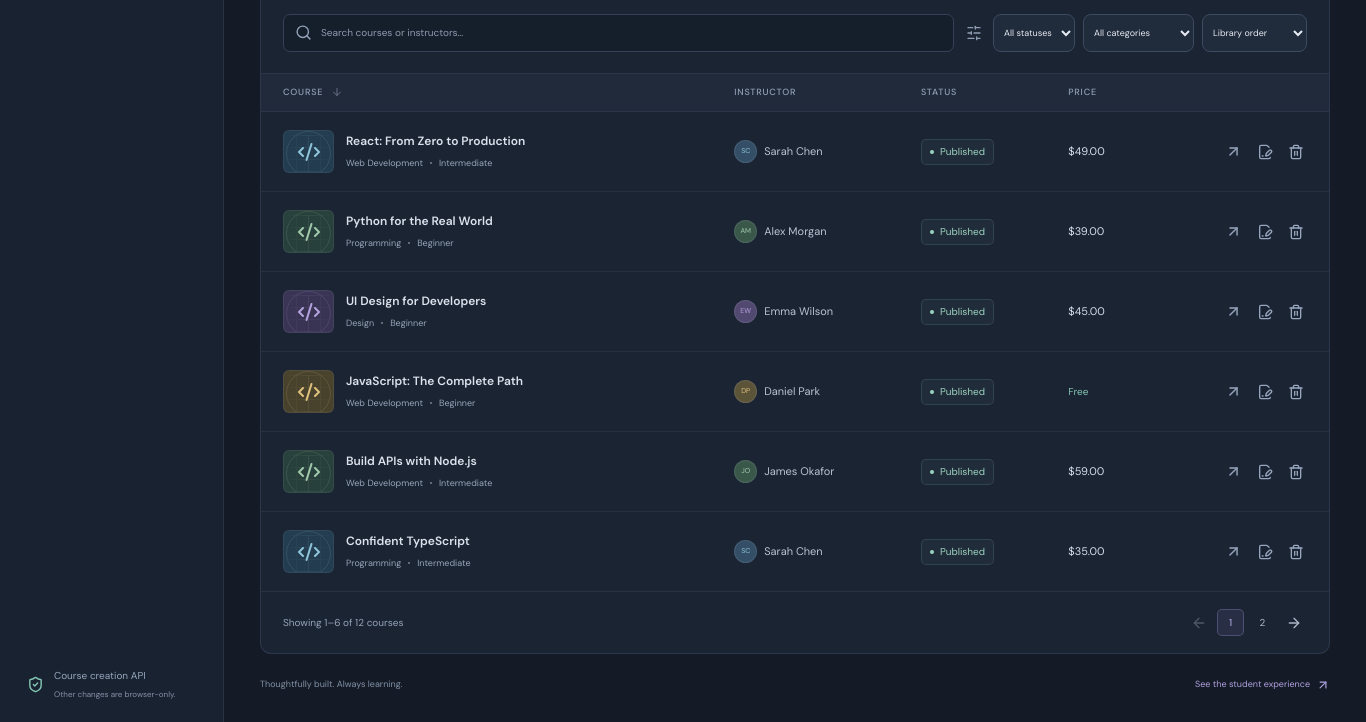
Scenario: admin search, status filters, reset and pagination are functional
(page scrolled)
Click the button named "Next page". click: click(1294, 622)
box: x1=1281 y1=610 x2=1307 y2=636
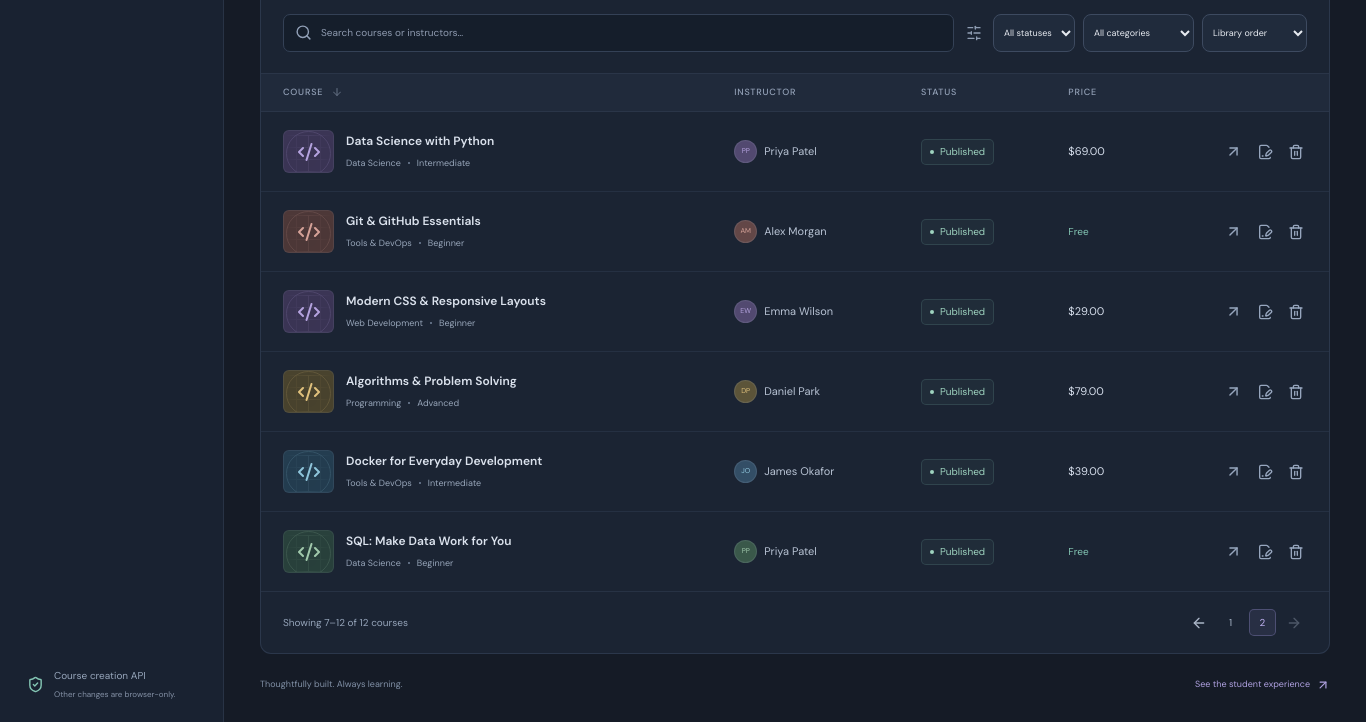
Check: the text "Showing 7–12 of 12 courses" is shown, box x1=283 y1=615 x2=408 y2=630
Type "Python" into the field named "Search admin courses". click: (632, 32)
box: x1=321 y1=25 x2=942 y2=40
(page scrolled)
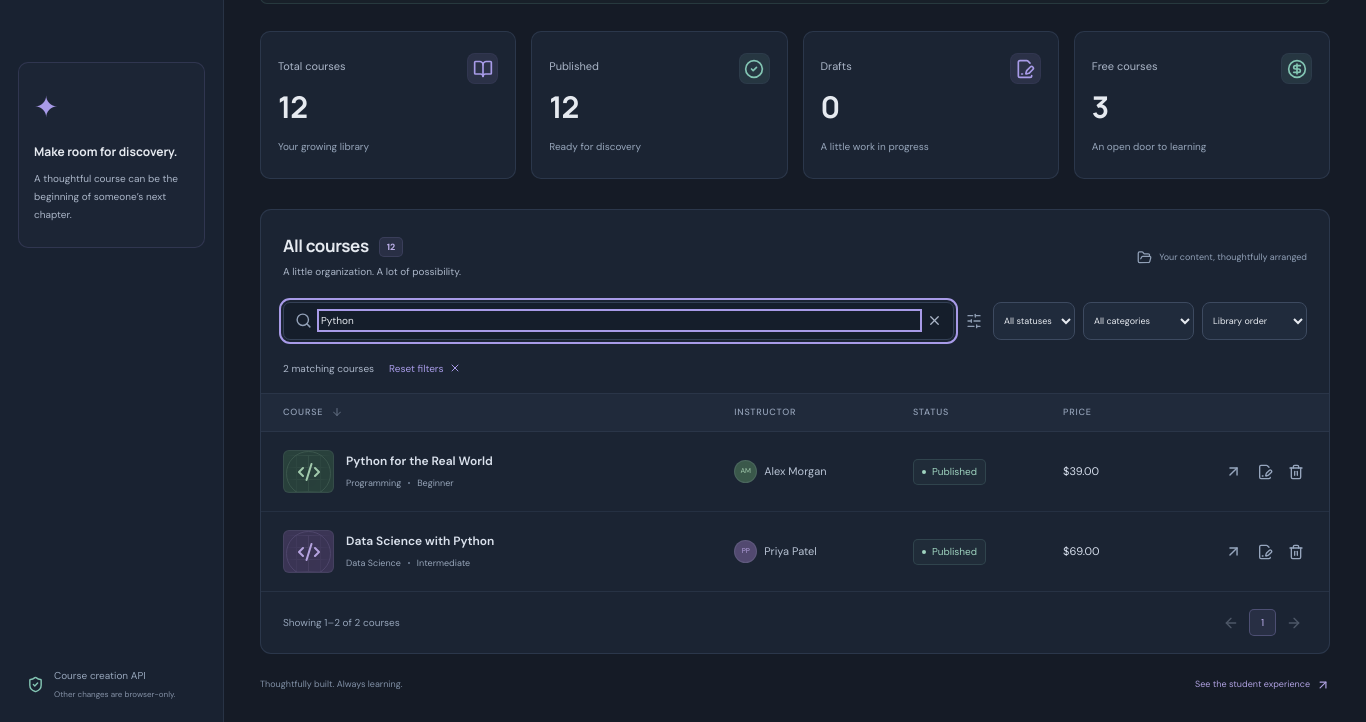
Select "Draft" in the dropdown named "Filter by course status". click: (1034, 320)
box: x1=993 y1=302 x2=1075 y2=340
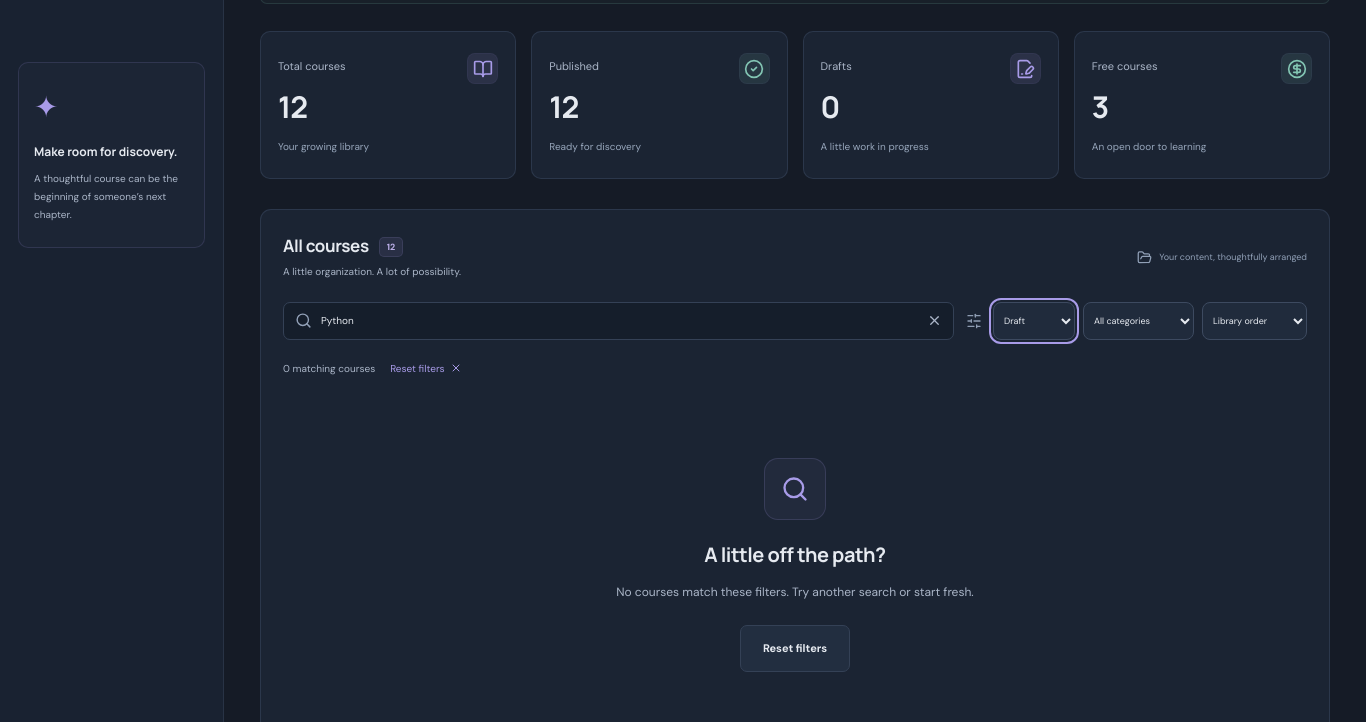
Check: the heading "A little off the path?" is shown, box x1=704 y1=540 x2=886 y2=568
Click the button "Reset filters" in the row of "matching". click: click(426, 368)
box: x1=390 y1=360 x2=462 y2=376
(page scrolled)
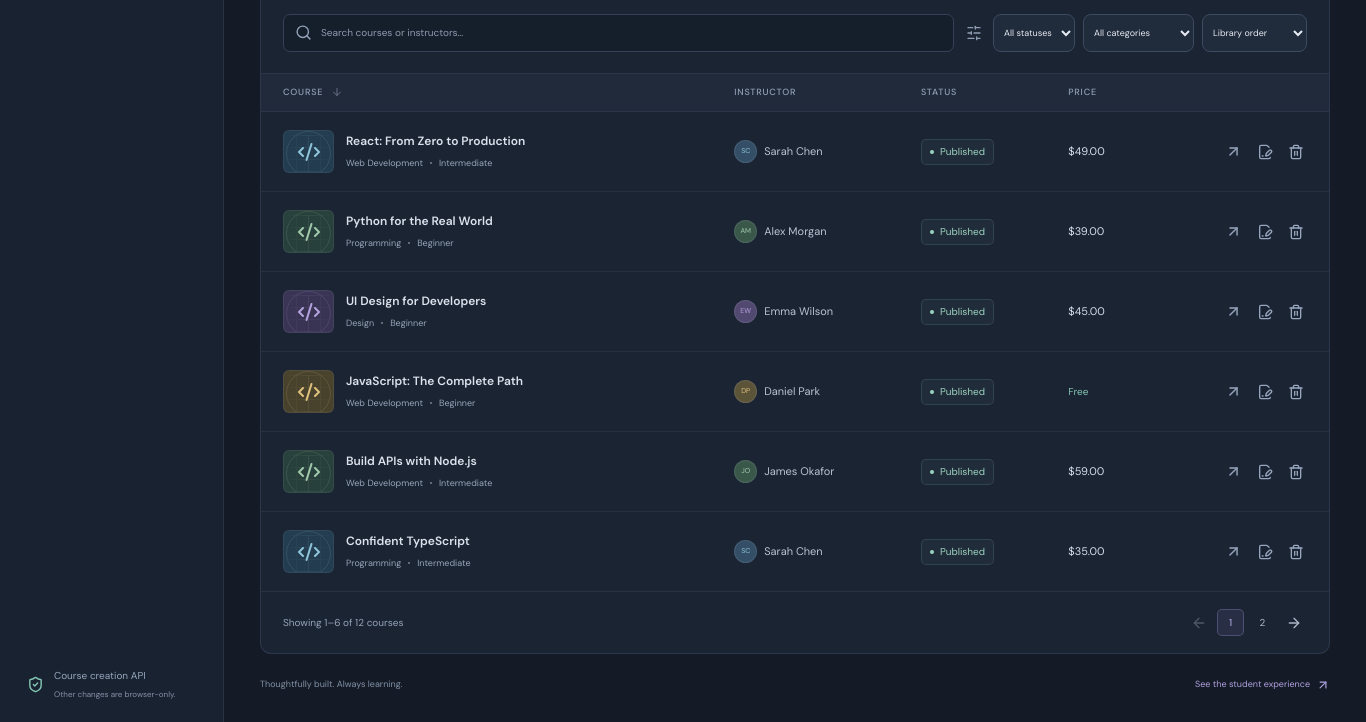
Check: the text "Showing 1–6 of 12 courses" is shown, box x1=283 y1=615 x2=404 y2=630
